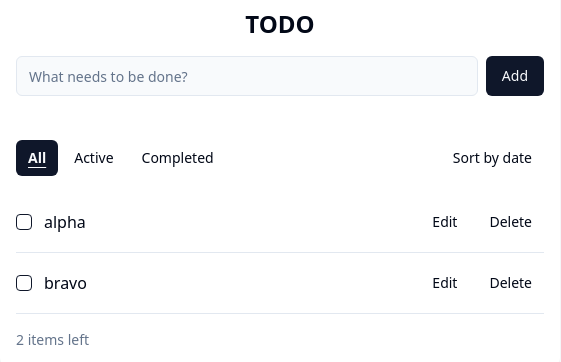
Test: R4 — a subsequent mutation dismisses the pending undo; no-ops do not › toggling another row finalizes a pending delete-undo
Expected: the text "alpha" is shown, [44, 211, 86, 233]
Click the button "Delete" in the row of "alpha": (511, 222) [477, 204, 544, 240]
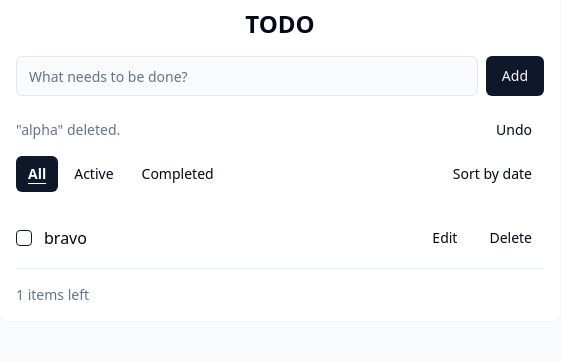
Expected: the button "Undo" is shown, [484, 112, 544, 148]
Click the checkbox named "Toggle complete": (24, 238) [16, 230, 32, 246]
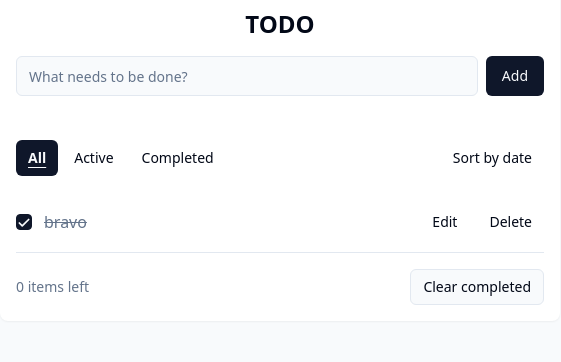
Expected: the button "Undo" is gone
